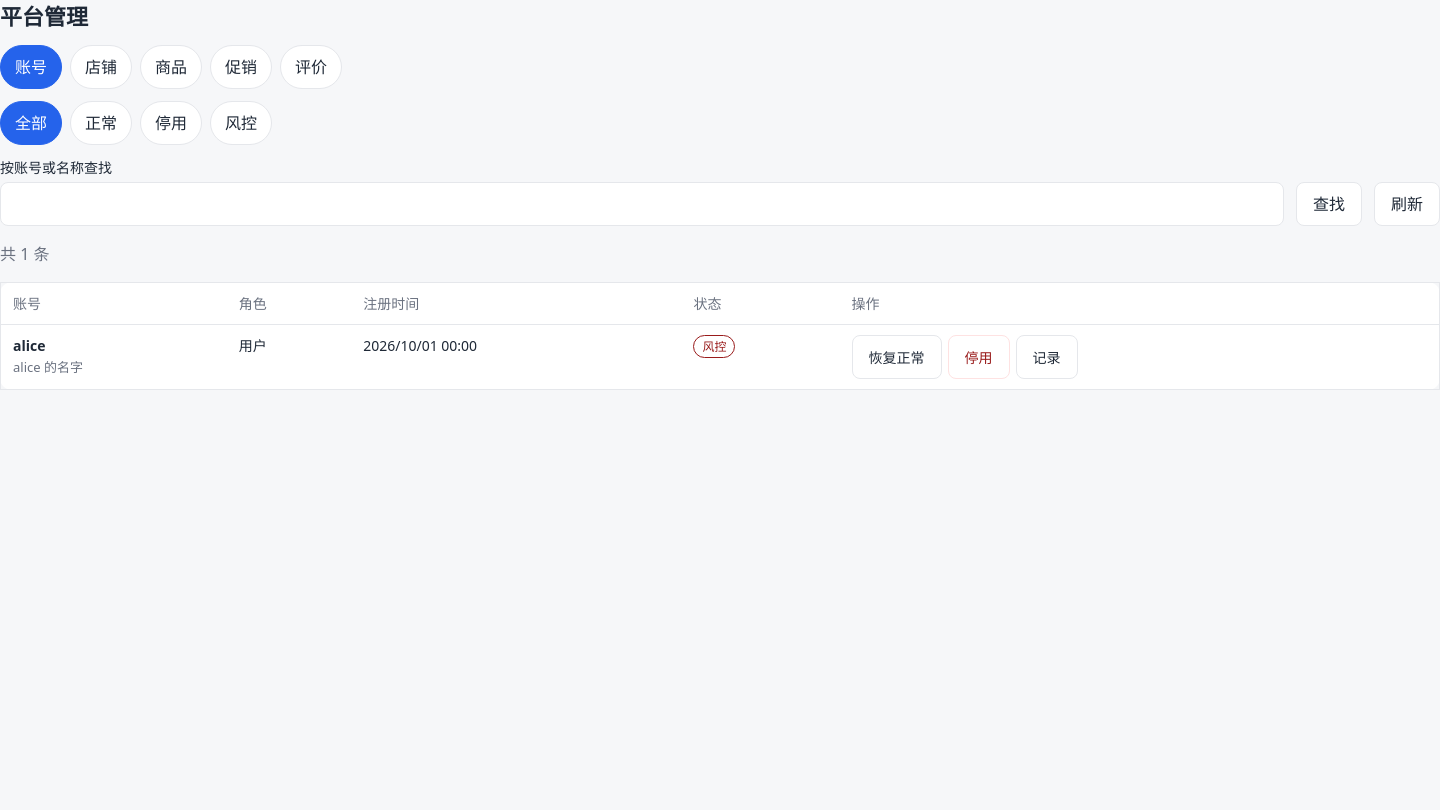
Test: 平台管理 › 恢复正常不需要原因；服务端拒绝时原因显示在对话框里
The image size is (1440, 810).
Click the button with aria-label "恢复正常 alice" at x=897, y=357, box [852, 335, 942, 379]
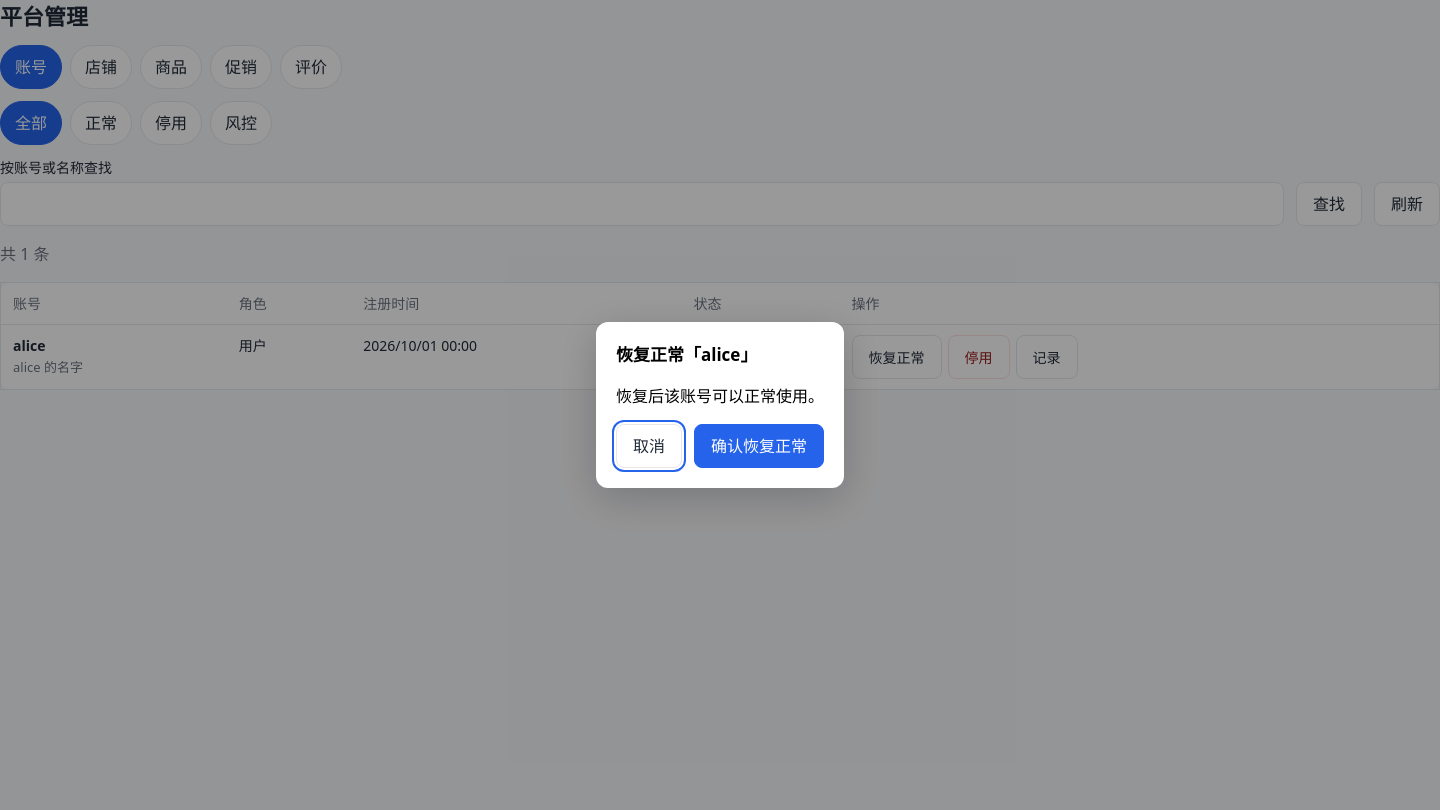
Click the button "确认恢复正常" at x=759, y=446, box [694, 424, 824, 468]
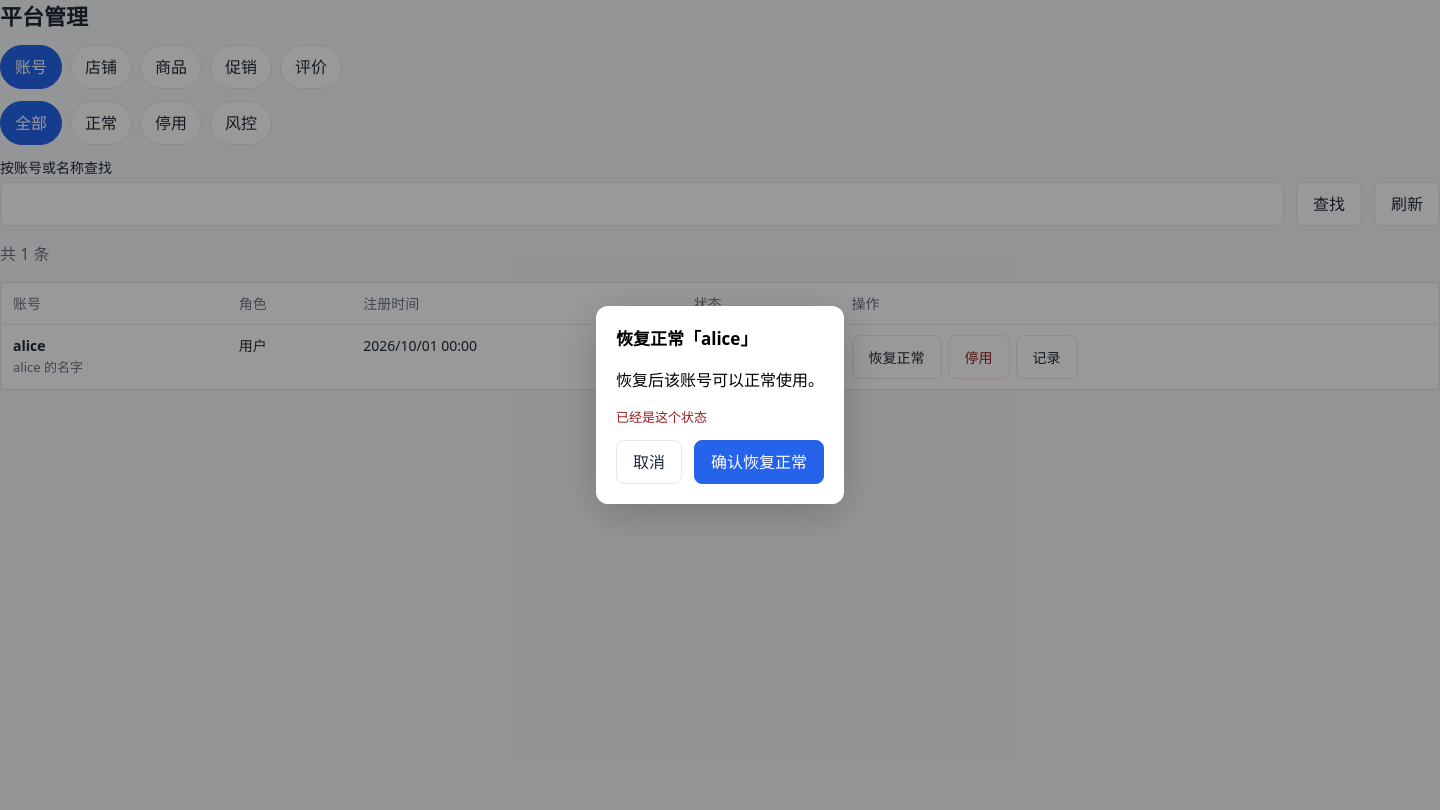
Expected: the message reads "已经是这个状态", [616, 408, 707, 426]
